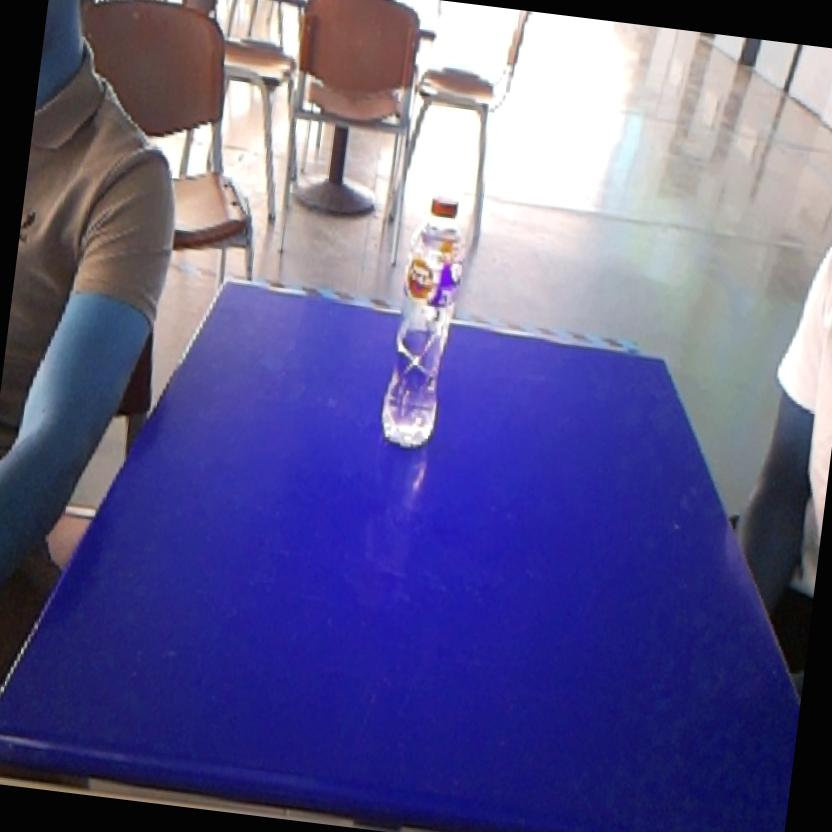good: (371, 182, 481, 464)
